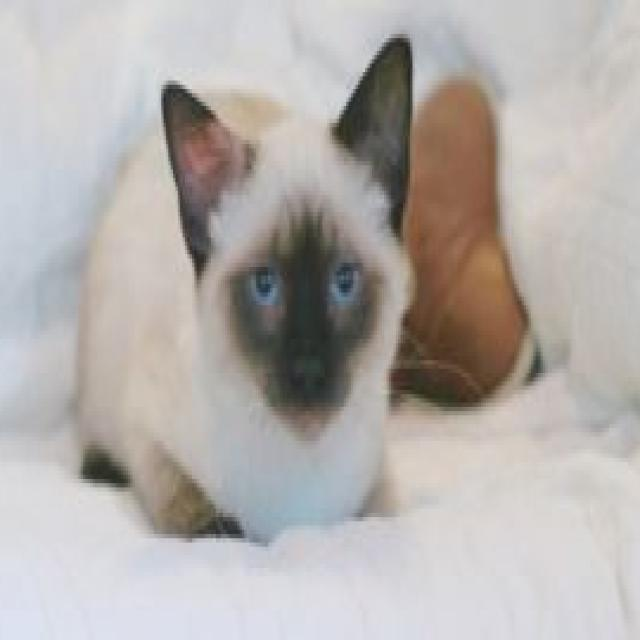Siamese: (73, 32, 417, 552)
